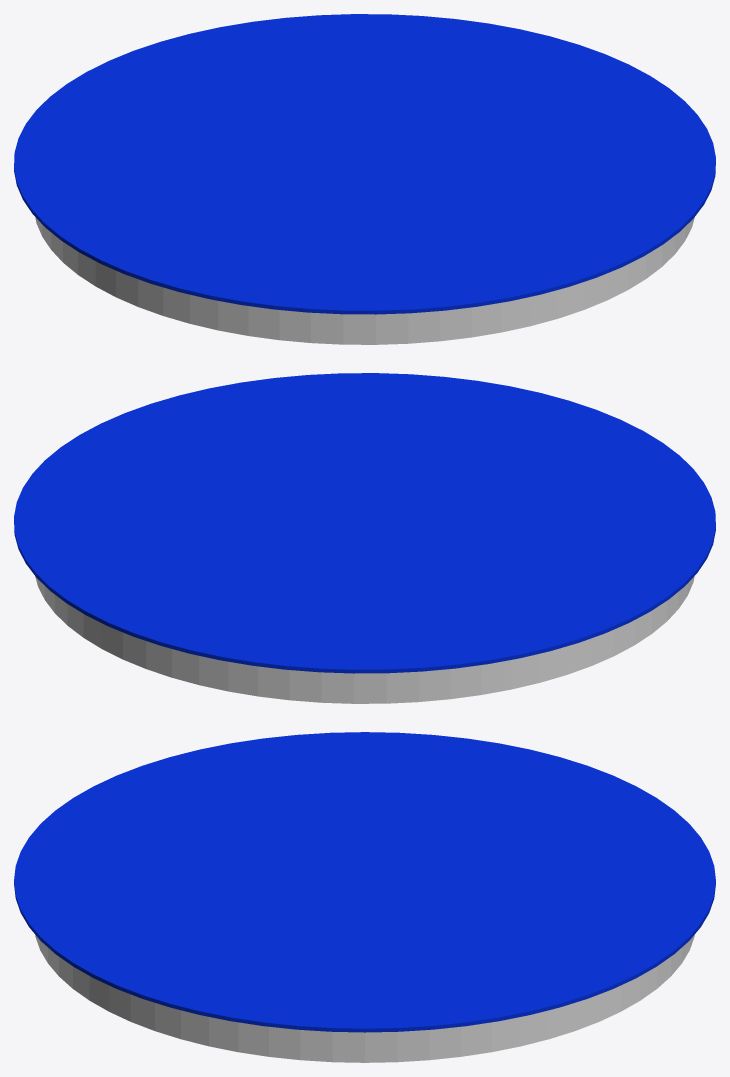
File: Platform.fbx
3 renders of one model, top to bottom at view 1: azimuth 30°, elevation 25°; view 2: azimuth 150°, elevation 25°; view 3: azimuth 270°, elevation 25°, orthographic.
Visible parts, largest first — view 1: Platform; view 2: Platform; view 3: Platform.
Boxes of the visible parts, left/top/right/bottom form: Platform: left=14, top=14, right=715, bottom=344; Platform: left=14, top=373, right=715, bottom=703; Platform: left=14, top=732, right=715, bottom=1062.
Size of the model in its own units: 7.63 by 0.51 by 7.63.
